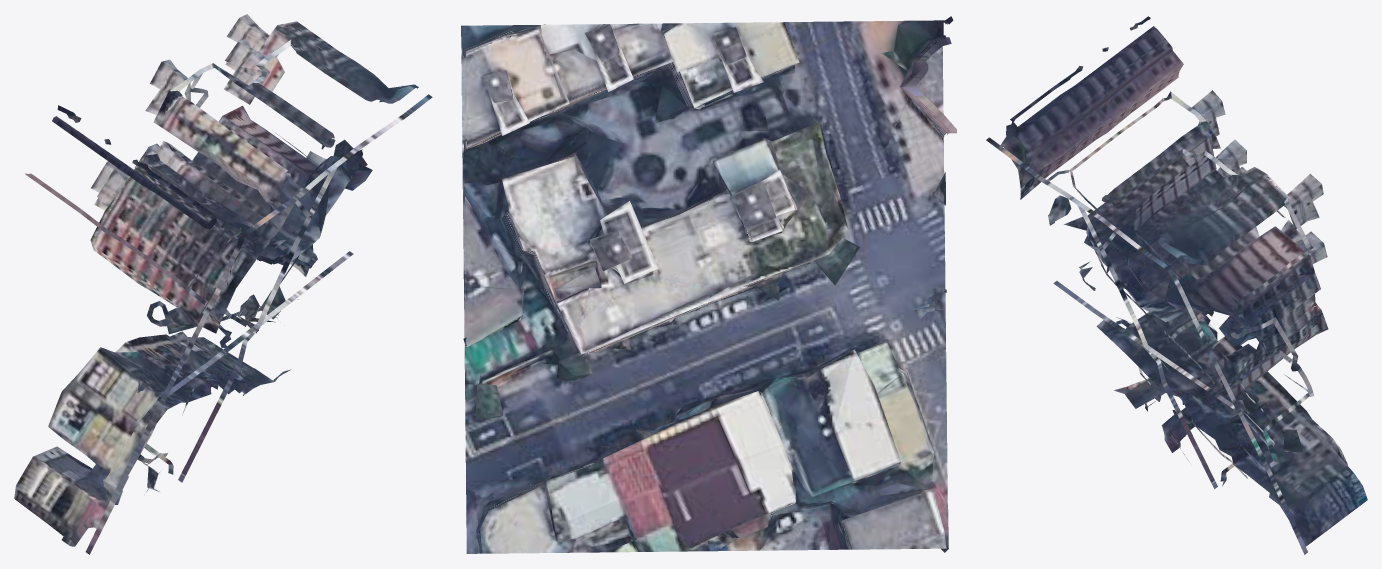
3 renders of one model, left to right at view 1: azimuth 30°, elevation 25°; view 2: azimuth 150°, elevation 25°; view 3: azimuth 270°, elevation 25°, orthographic. The views are drawn at different scales.
Bounding box in the file's own units: 83.58 × 87.68 × 74.98.
2 materials, 2 textured.
